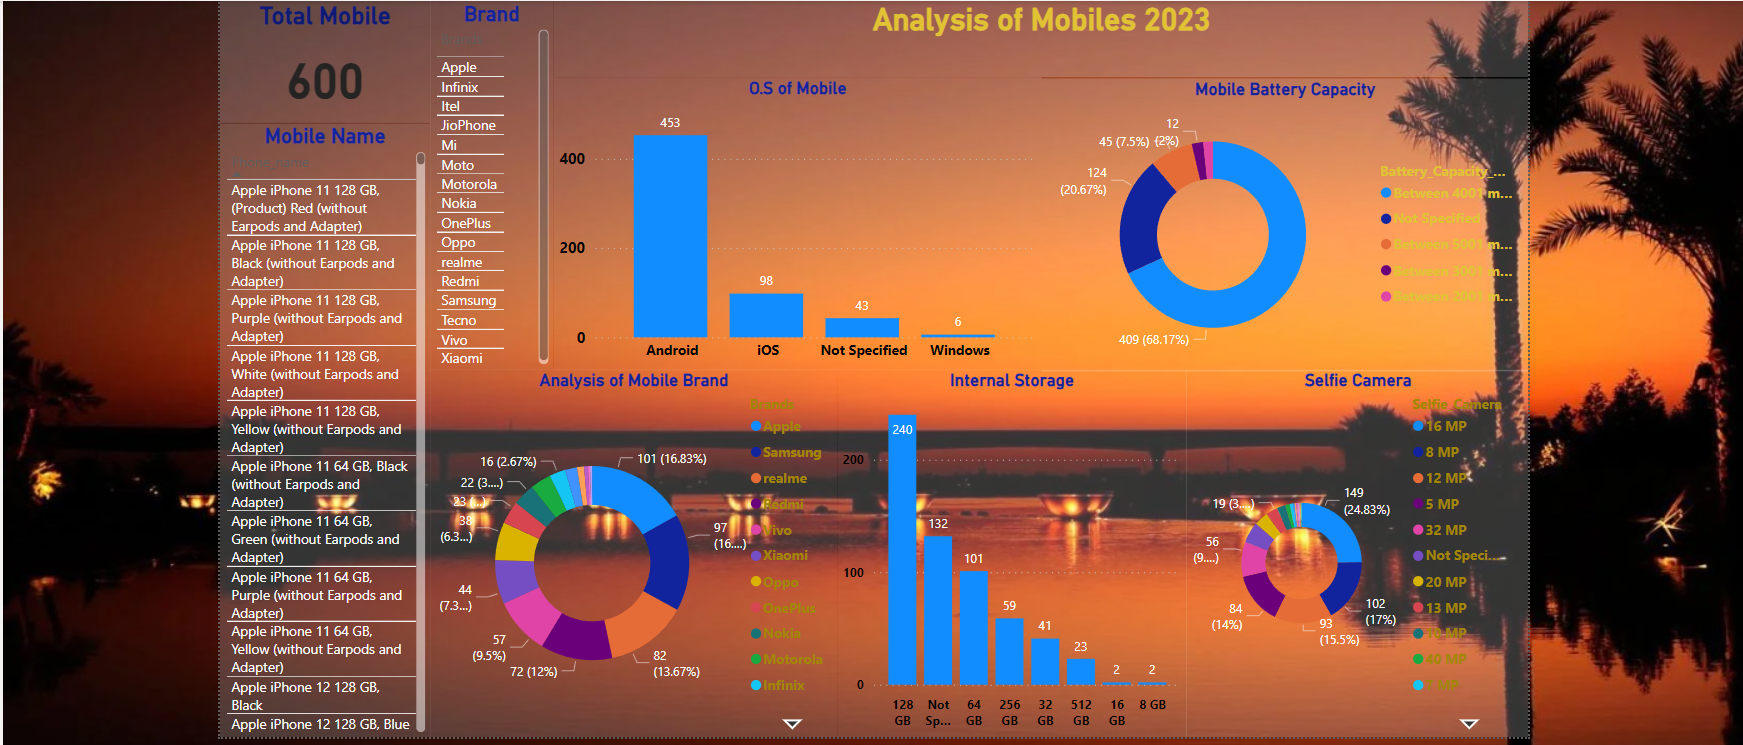

Layout of this report page (visuals, bound fields, positions):
{"tool":"powerbi","page":{"name":"Page 1","canvas":[1280,720],"ordinal":0},"visuals":[{"type":"card","title":"Total Mobile","fields":{"Values":["Sum(Mobile.Total_Mobile)"]},"box":[0,0,205.7,119.3],"z":0},{"type":"tableEx","title":"Mobile Name","fields":{"Values":["Mobile.Phone_name"]},"box":[0,119.3,205.7,600.5],"z":1000},{"type":"tableEx","title":"Brand","fields":{"Values":["Mobile.Brands"]},"box":[205.7,0,120.7,360.6],"z":2000},{"type":"clusteredColumnChart","title":"O.S of Mobile","fields":{"Category":["Mobile.Operating_System_Type"],"Y":["Sum(Mobile.Total_Mobile)"]},"box":[326.3,74,477.1,286.5],"z":3000},{"type":"donutChart","title":"Mobile Battery Capacity","fields":{"Y":["Sum(Mobile.Total_Mobile)"],"Category":["Mobile.Battery_Capacity_Range"]},"box":[803.4,75.4,477.1,286.5],"z":4000},{"type":"donutChart","title":"Analysis of Mobile Brand ","fields":{"Category":["Mobile.Brands"],"Y":["Sum(Mobile.Total_Mobile)"]},"box":[205.4,360.6,398.5,359.4],"z":5000},{"type":"columnChart","title":"Internal Storage","fields":{"Category":["Mobile.Internal_Storage"],"Y":["Sum(Mobile.Total_Mobile)"]},"box":[603.3,360.6,341.4,359.2],"z":6000},{"type":"donutChart","title":"Selfie Camera","fields":{"Category":["Mobile.Selfie_Camera"],"Y":["Sum(Mobile.Total_Mobile)"]},"box":[944.7,360.6,335.9,359.2],"z":7000},{"type":"textbox","title":"Analysis of Mobiles 2023","box":[326.3,0,954.2,74],"z":8000}]}

Visuals, with their boxes on the page's 1280x720 design canvas (x1, y1, x2, y2). These are canvas units, not pixel positions in the 1743x745 screenshot, which may show the page scaled, cropped or inside an application window:
"Total Mobile" card: [0,0,206,119]
"Mobile Name" tableEx: [0,119,206,720]
"Brand" tableEx: [206,0,326,361]
"O.S of Mobile" clusteredColumnChart: [326,74,803,360]
"Mobile Battery Capacity" donutChart: [803,75,1280,362]
"Analysis of Mobile Brand " donutChart: [205,361,604,720]
"Internal Storage" columnChart: [603,361,945,720]
"Selfie Camera" donutChart: [945,361,1281,720]
"Analysis of Mobiles 2023" textbox: [326,0,1280,74]
